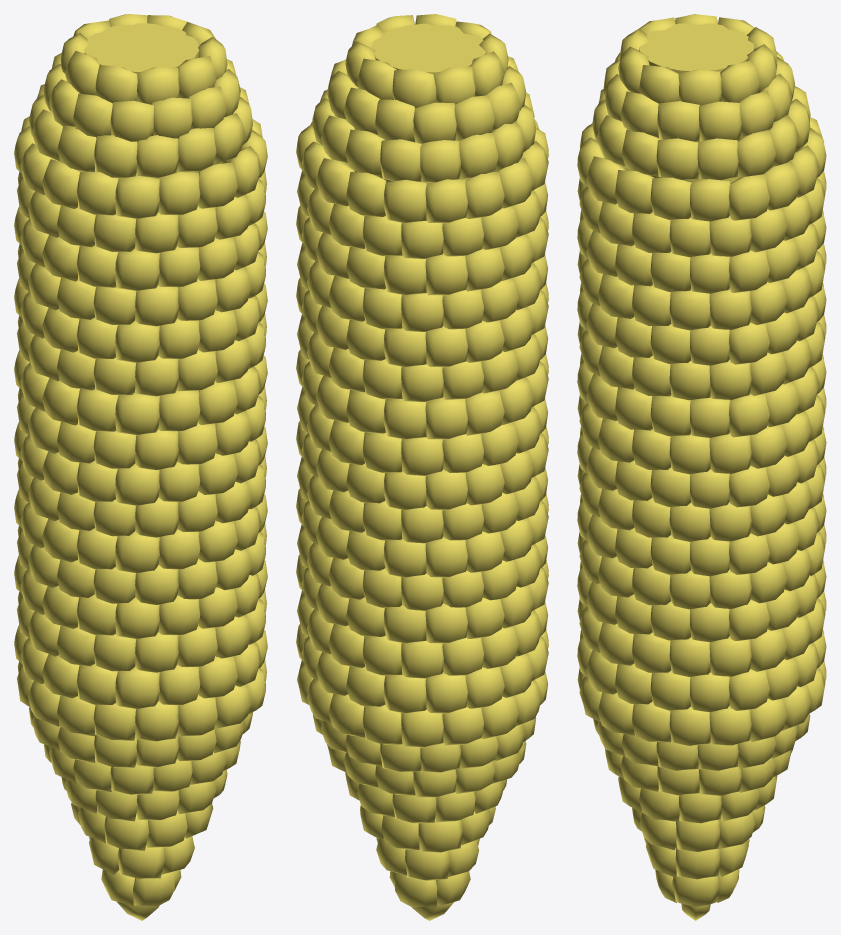
The model's file is corn.fbx.
3 views of the same model, side by side, from view 1: azimuth 30°, elevation 25°; view 2: azimuth 150°, elevation 25°; view 3: azimuth 270°, elevation 25° (orthographic).
Visible parts, largest first — view 1: pCube441; view 2: pCube441; view 3: pCube441.
Part boxes in pixels (x1=…): pCube441: x1=14, y1=14, x2=267, y2=920; pCube441: x1=296, y1=14, x2=548, y2=920; pCube441: x1=577, y1=14, x2=826, y2=920.
Bounding box in the file's own units: 1.75 × 6.76 × 1.73.
